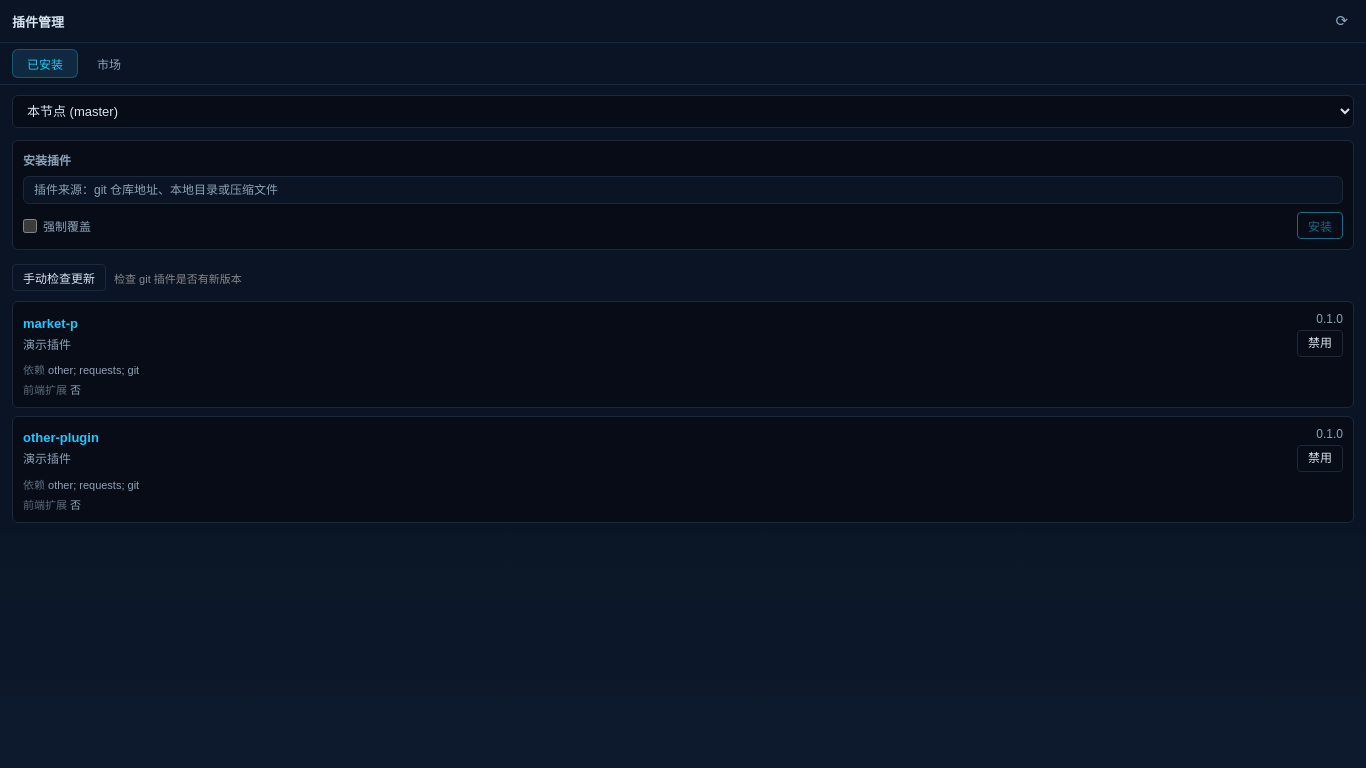
PluginSidebar › 市场 tab：已安装插件显示「已安装」徽章，不显示安装按钮
This screenshot has width=1366, height=768.
Click the button "市场" at (109, 64), box [82, 49, 136, 78]
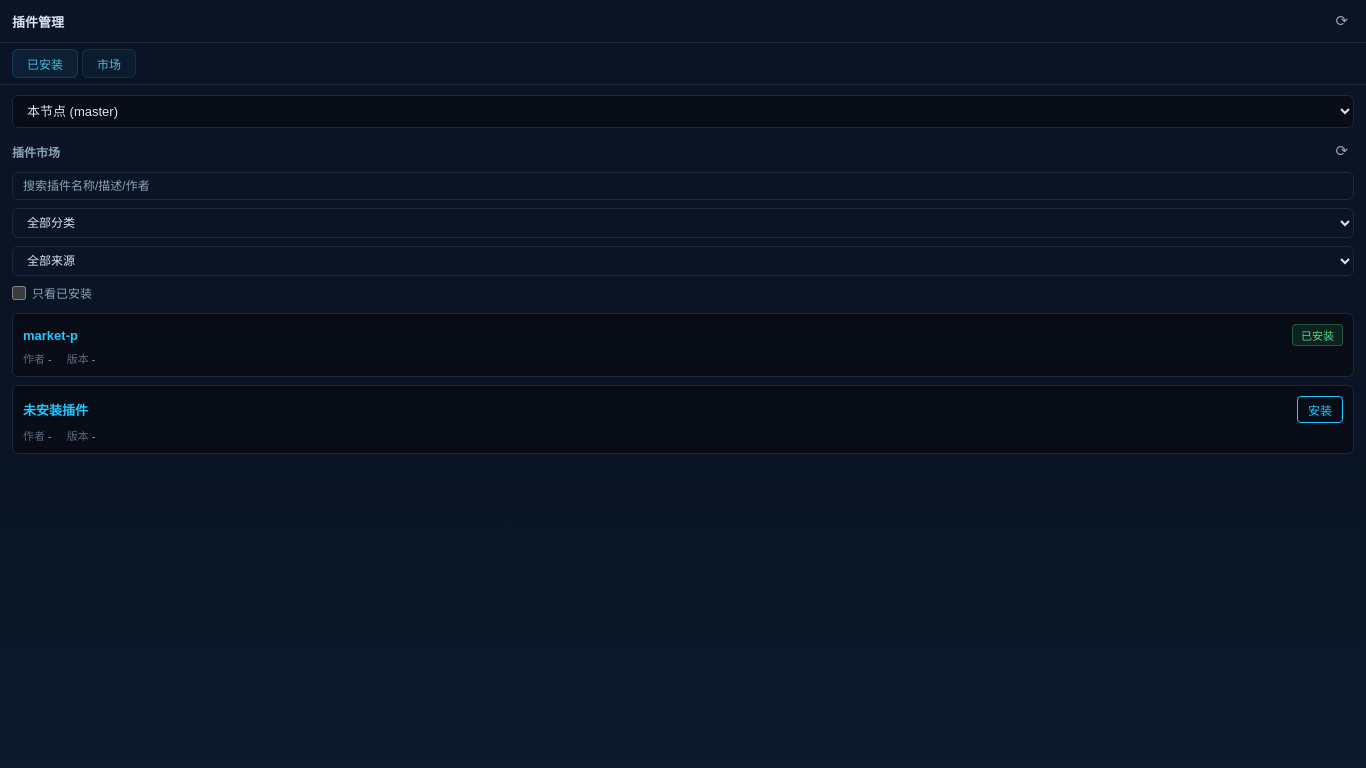
Expected: the text "已安装" is not shown
Now the element showing "market-p 已安装 作者 - 版本 -" is shown, box [12, 313, 1354, 377]
